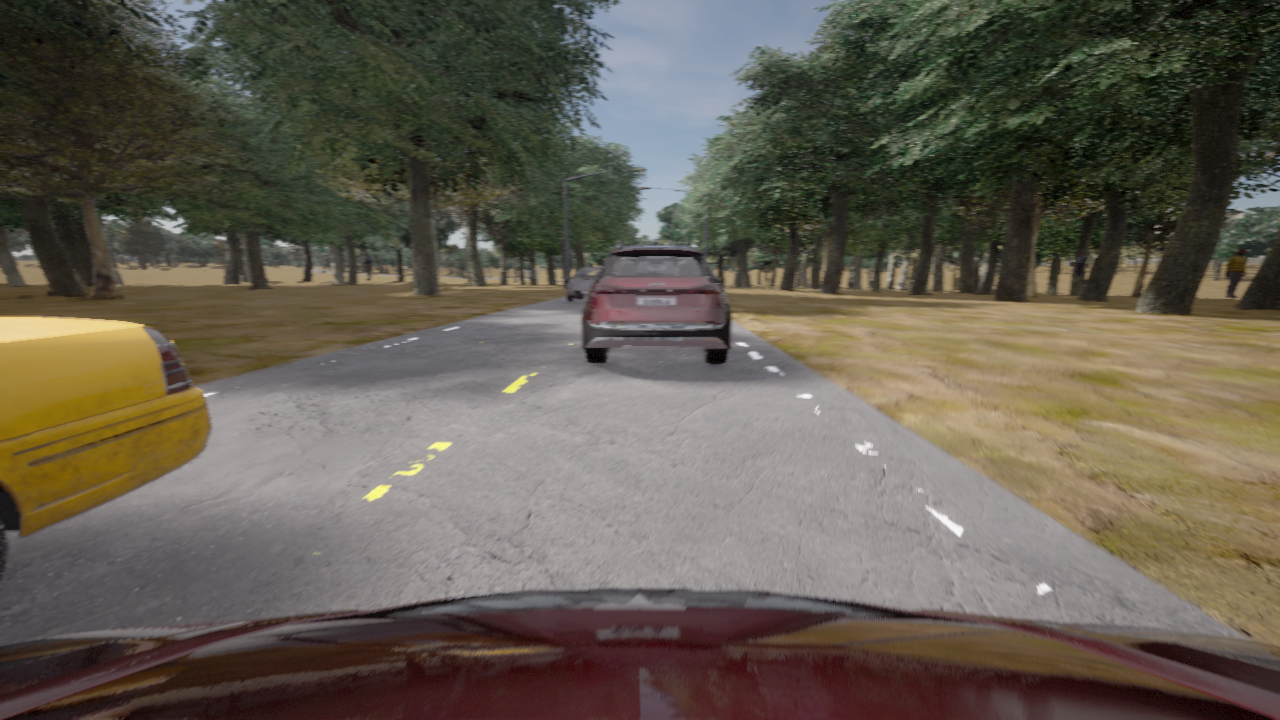cyclist: (0, 588, 1279, 719), (582, 240, 730, 364), (567, 267, 601, 301)
pedestrian: (1225, 248, 1246, 297), (1075, 252, 1086, 276), (365, 252, 371, 278)
